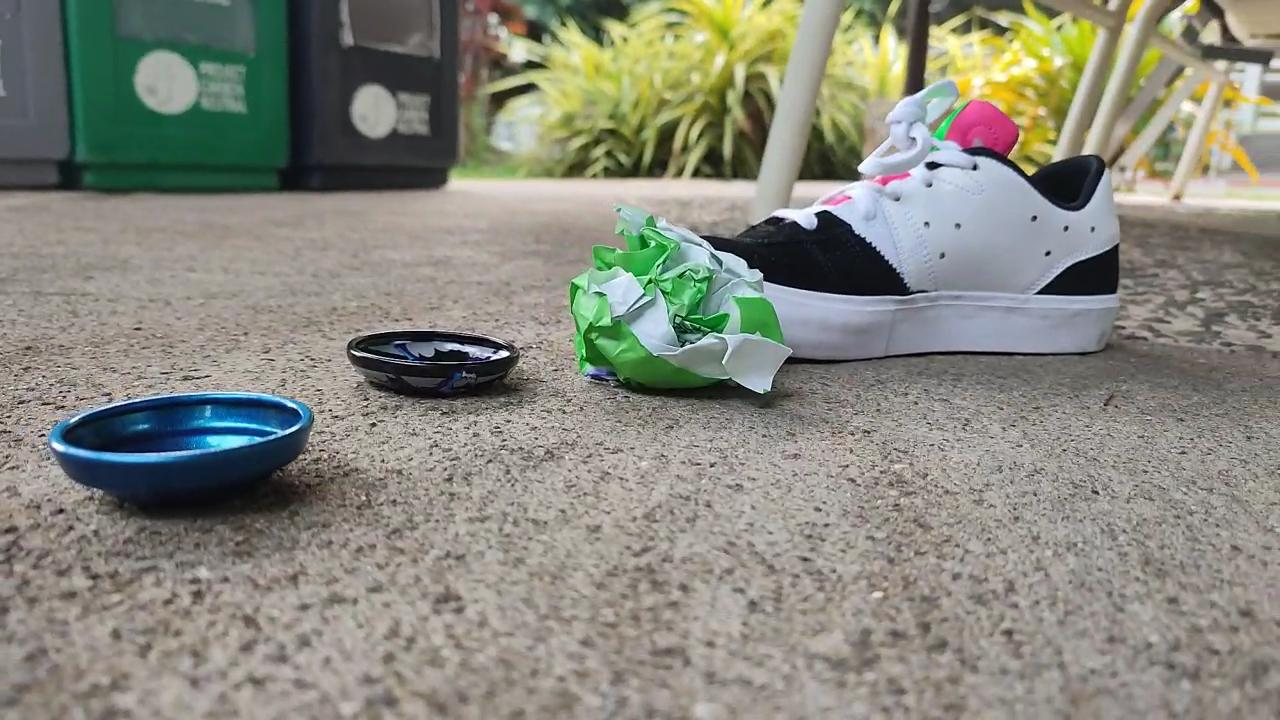Paper: (547, 197, 800, 412)
